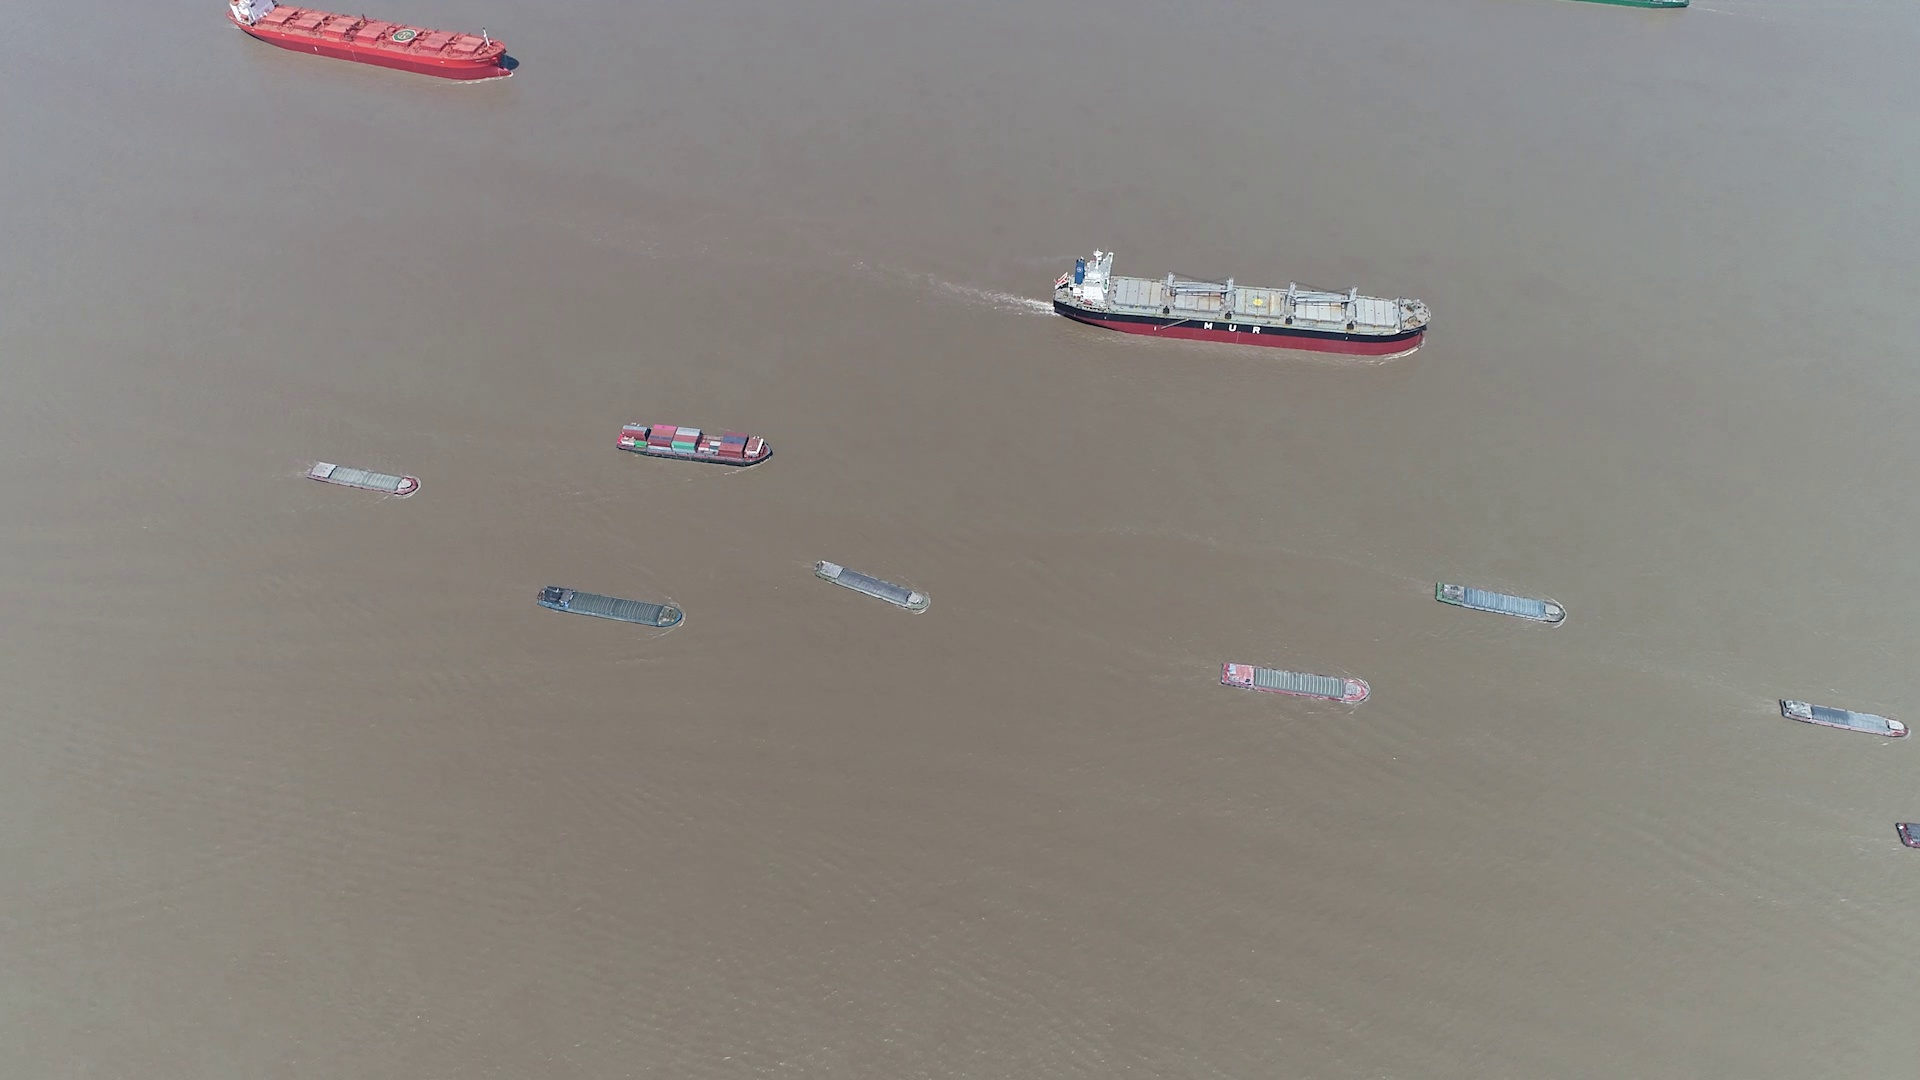ship: (1052, 255, 1433, 352), (225, 0, 520, 79), (616, 421, 773, 465), (535, 585, 684, 630), (1220, 661, 1371, 702), (818, 560, 931, 615), (1435, 582, 1568, 624), (1776, 698, 1907, 740), (307, 460, 419, 496), (1584, 0, 1688, 11)
